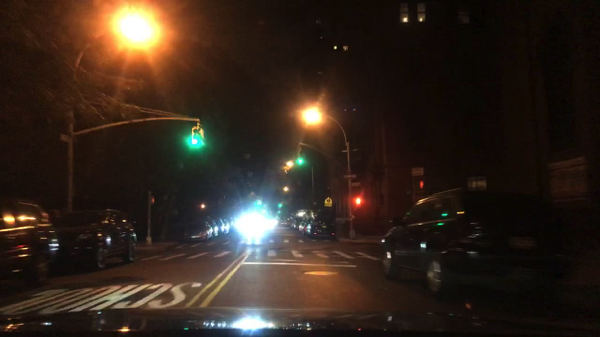car: (381, 188, 578, 305), (0, 197, 60, 288), (50, 210, 138, 272), (182, 221, 213, 245), (306, 216, 336, 240), (234, 212, 265, 235), (198, 217, 219, 237), (207, 217, 224, 237), (299, 215, 315, 234), (294, 214, 307, 232), (223, 217, 229, 235), (285, 219, 294, 228), (278, 218, 286, 228)
traffic light: (192, 125, 200, 146), (296, 150, 305, 165), (199, 127, 205, 147), (418, 179, 424, 191), (355, 198, 362, 206), (277, 202, 284, 209), (150, 196, 155, 205)
traffic sign: (549, 154, 590, 207), (468, 176, 488, 193), (343, 172, 357, 179), (412, 167, 423, 175), (60, 134, 69, 143), (350, 181, 361, 188), (324, 198, 332, 207), (351, 147, 358, 154), (341, 148, 348, 154)
